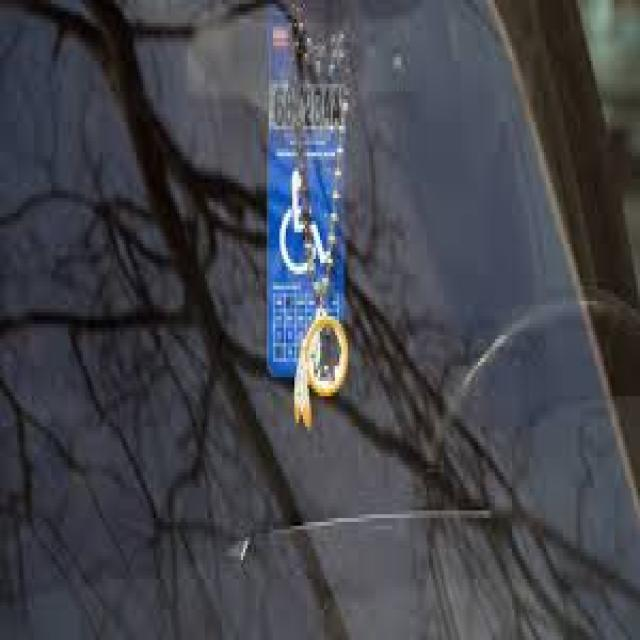symbol_of_access: (278, 170, 332, 278)
